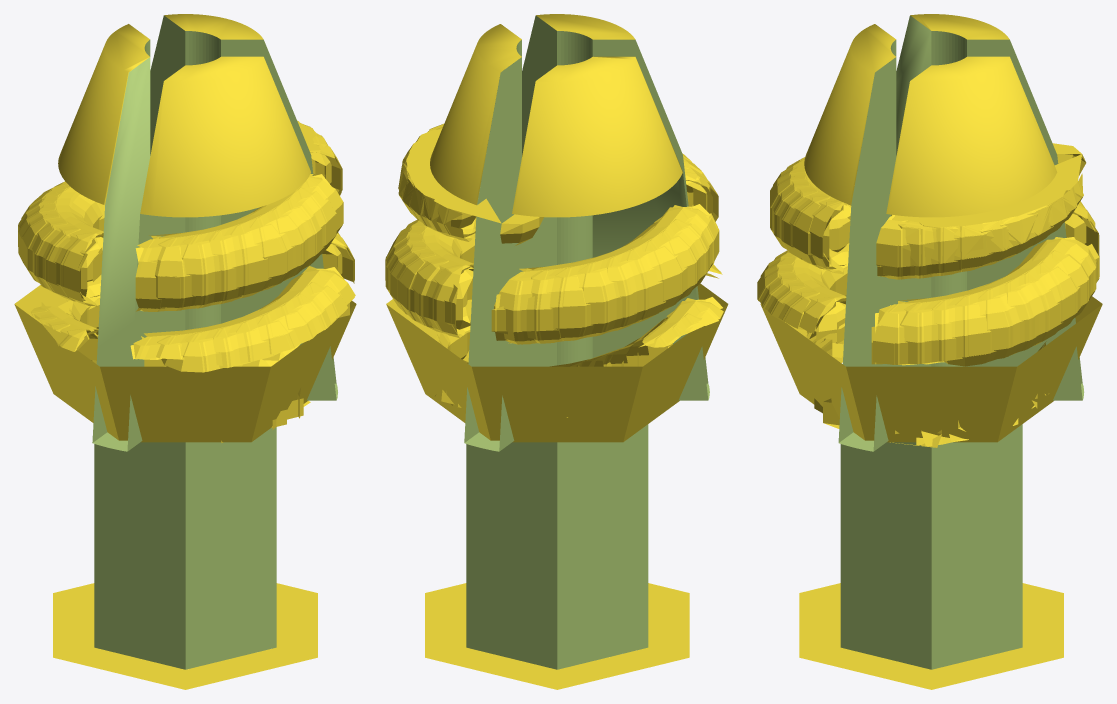
The model's file is openscad_small-bit-chuck.glb.
The picture shows the model from 3 angles, left to right: view 1: azimuth 30°, elevation 25°; view 2: azimuth 150°, elevation 25°; view 3: azimuth 270°, elevation 25°; orthographic projection.
Visible parts, largest first — view 1: object; view 2: object; view 3: object.
Boxes of the visible parts, x1,y1,x2,y2 form: object: [14, 14, 356, 689]; object: [385, 14, 728, 689]; object: [757, 14, 1102, 689].
Size of the model in its own units: 13.34 by 25 by 13.57.
